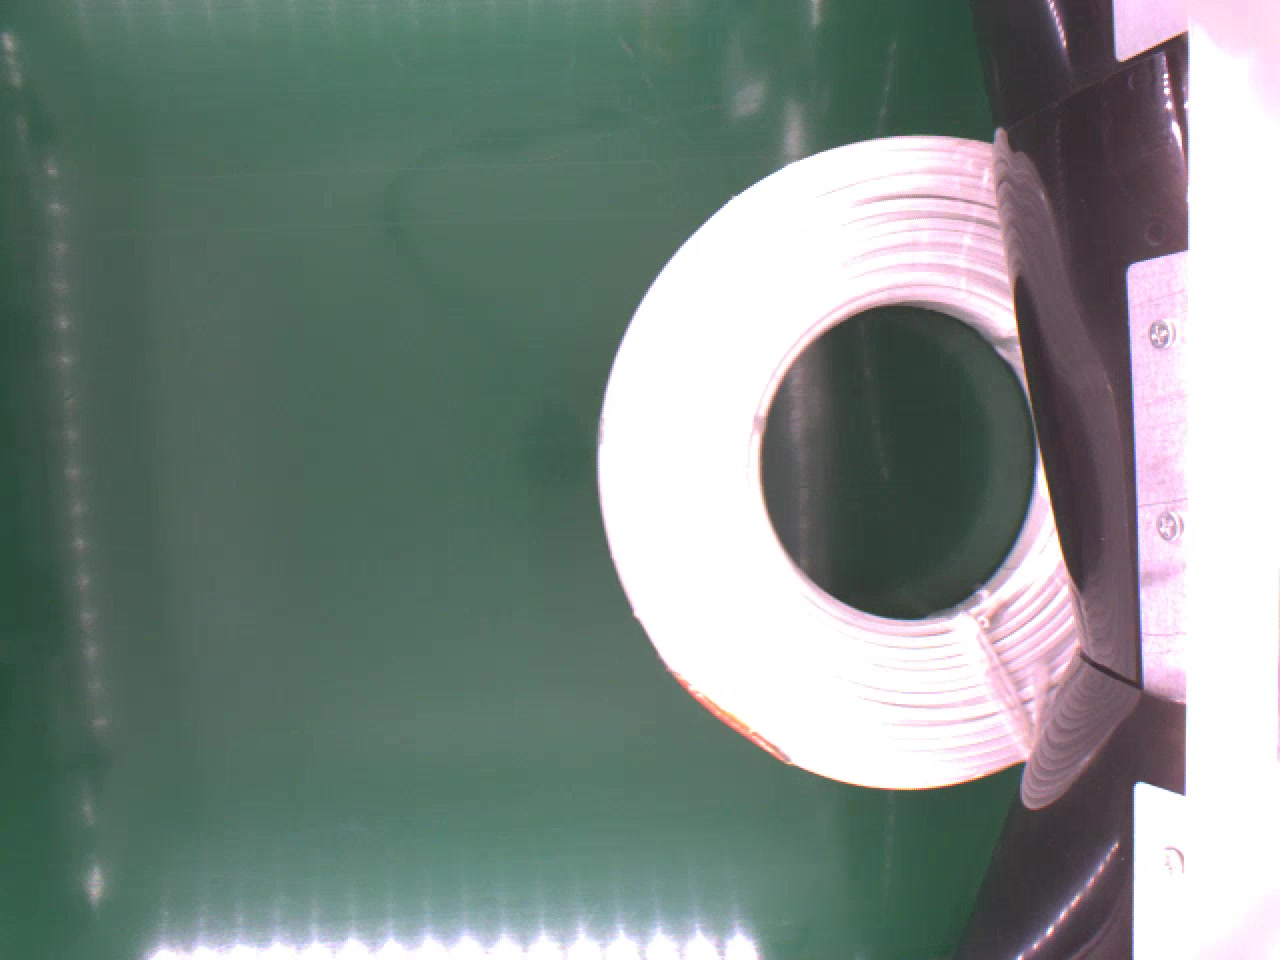white: (593, 135, 1083, 798)
